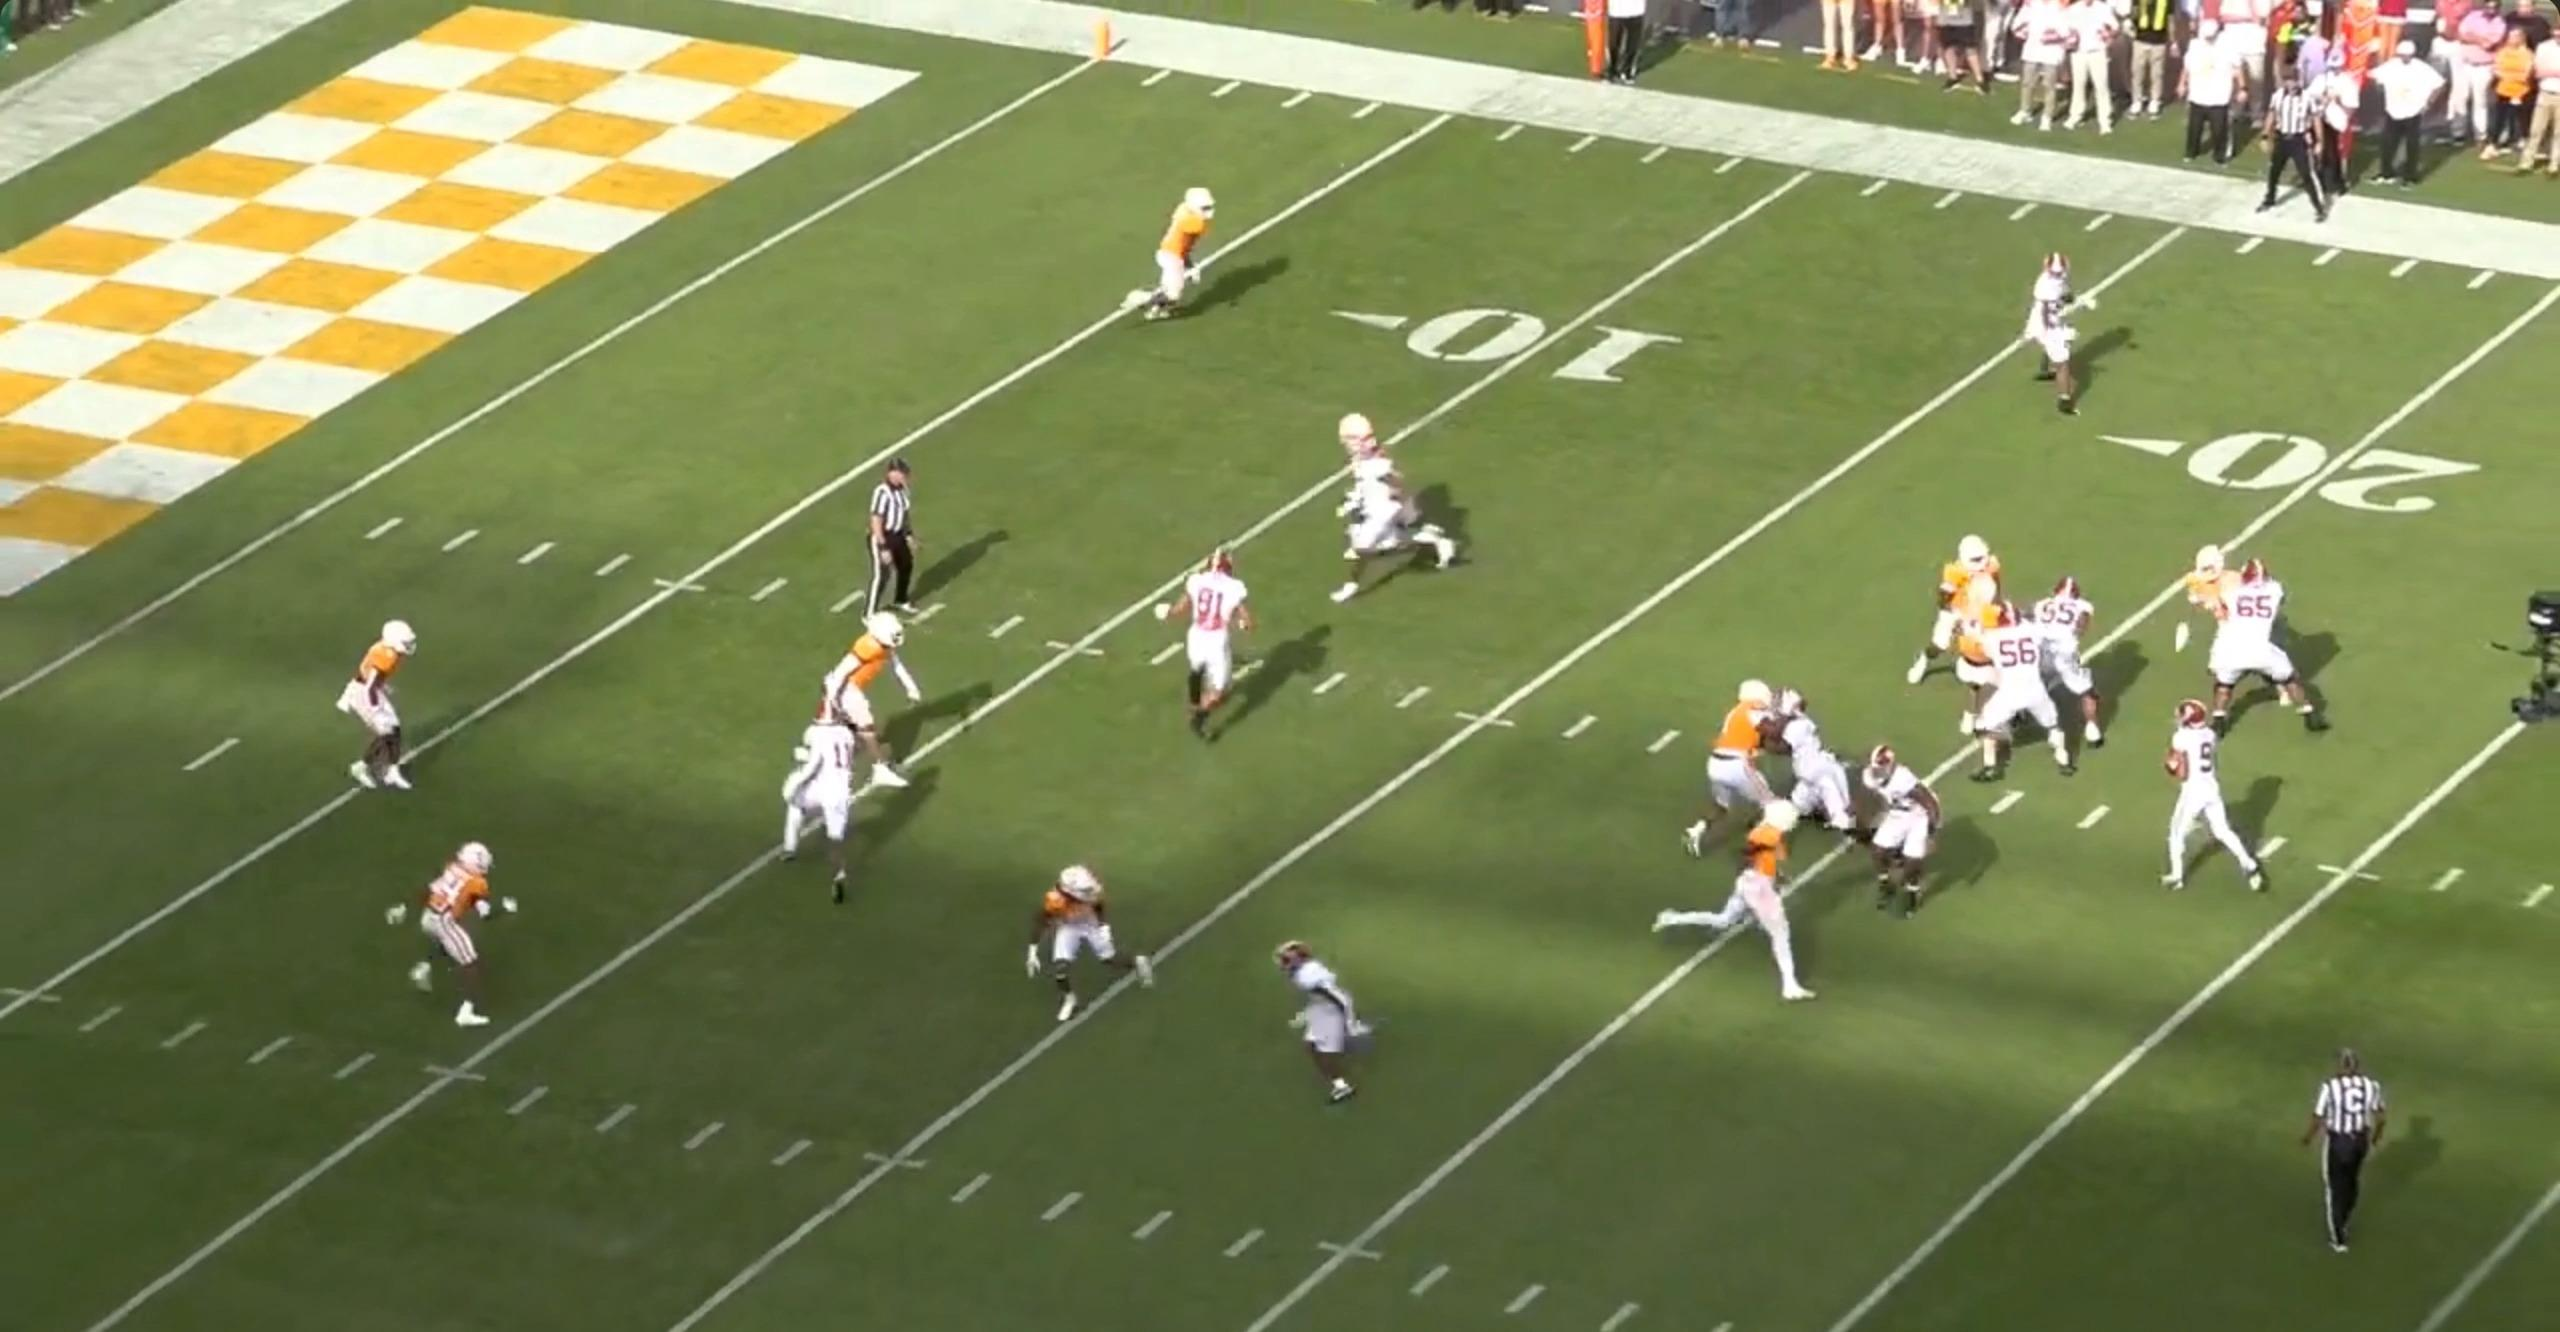defense: (1649, 800, 1821, 1001), (391, 840, 523, 1038), (1020, 857, 1165, 1031), (825, 618, 923, 804), (1684, 679, 1782, 864), (334, 617, 425, 807), (1900, 533, 2003, 694), (1128, 179, 1219, 326), (2168, 539, 2245, 678), (1948, 588, 2015, 735), (1324, 392, 1391, 470)
oline: (2196, 554, 2322, 741), (1952, 613, 2074, 784), (1760, 687, 1870, 854), (2033, 583, 2122, 764), (1866, 739, 1951, 918)
qb: (2151, 694, 2265, 897)
ref: (2285, 1037, 2385, 1260), (2260, 68, 2342, 230), (869, 455, 935, 619)
skill: (1326, 439, 1463, 596), (1151, 549, 1254, 747), (1273, 930, 1384, 1105), (773, 715, 866, 917), (2026, 246, 2103, 419)
